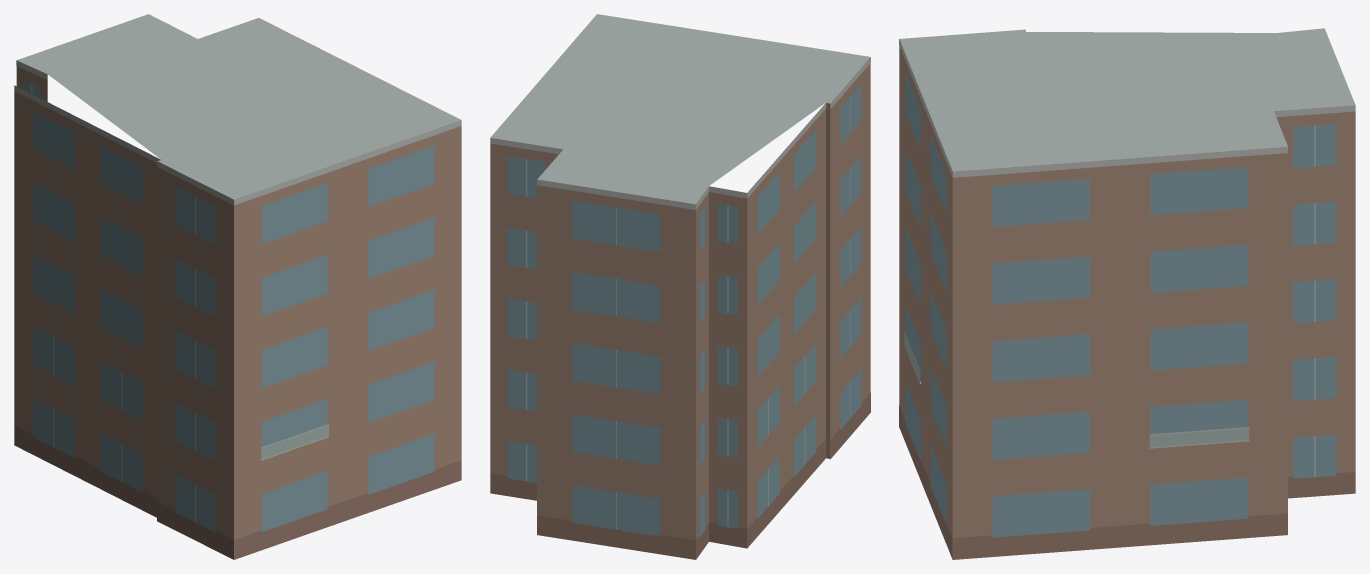
Rendered from survey-upis-32585544.glb.
3 views of the same model, side by side, from view 1: azimuth 30°, elevation 25°; view 2: azimuth 150°, elevation 25°; view 3: azimuth 270°, elevation 25° (orthographic). The views are drawn at different scales.
Parts seen in each view (by area): view 1: survey-upis-32585544.tmp; view 2: survey-upis-32585544.tmp; view 3: survey-upis-32585544.tmp.
Part boxes in pixels (x1,y1,x2,y2): survey-upis-32585544.tmp: [14, 14, 461, 559]; survey-upis-32585544.tmp: [490, 14, 870, 559]; survey-upis-32585544.tmp: [899, 28, 1355, 559].
Bounding box in the file's own units: 13.29 × 15.25 × 16.26.
